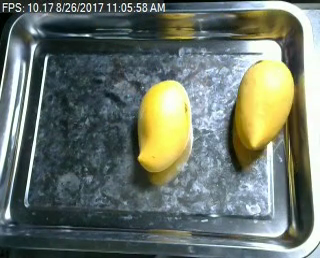Mango: (230, 57, 295, 156), (133, 79, 194, 170)
